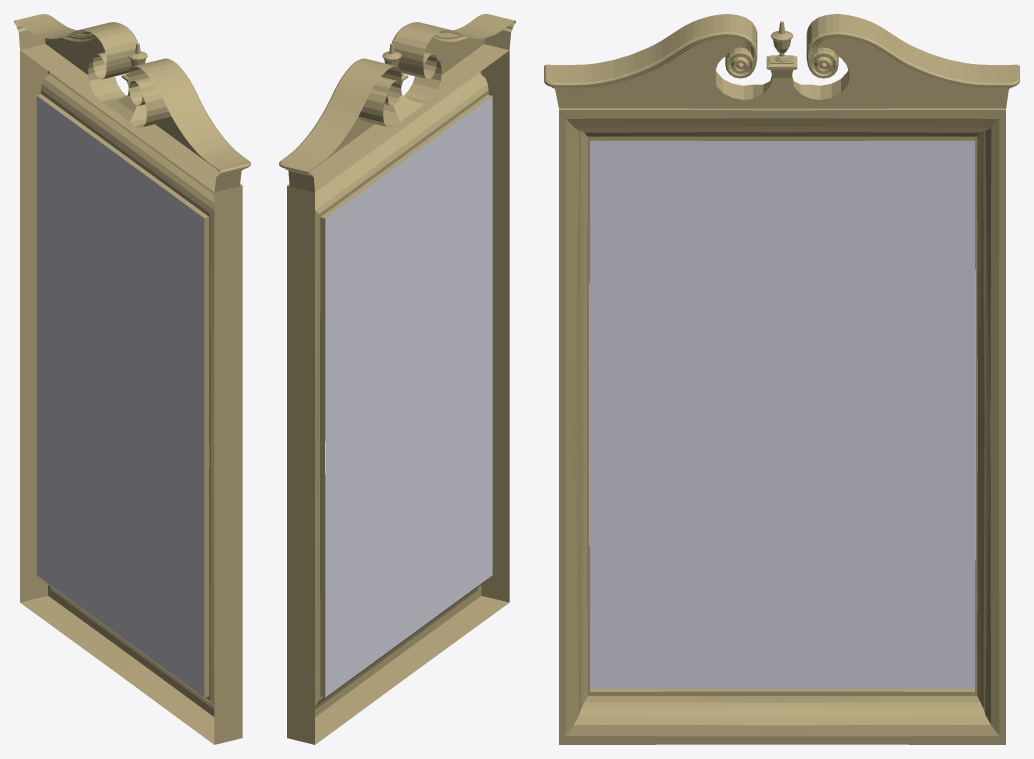
The model's file is espejo.FBX.
3 renders of one model, left to right at view 1: azimuth 30°, elevation 25°; view 2: azimuth 150°, elevation 25°; view 3: azimuth 270°, elevation 25°, orthographic. The views are drawn at different scales.
Visible parts, largest first — view 1: Group01; view 2: Group01; view 3: Group01.
Part boxes in pixels (x1,y1,x2,y2): Group01: (14, 14, 250, 744); Group01: (279, 14, 515, 744); Group01: (544, 14, 1019, 744).
Size of the model in its own units: 2.03 by 32.89 by 19.74.
